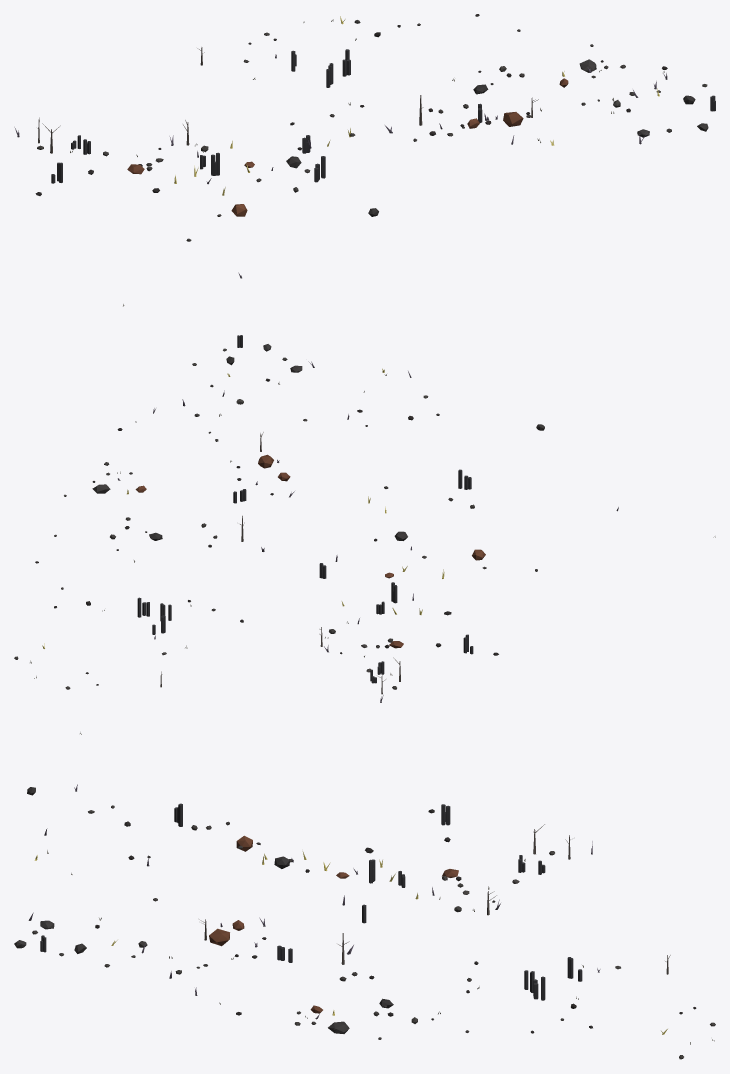
File: ash_land_scatter_c17_27_lod1.glb
The picture shows the model from 3 angles, top to bottom: view 1: azimuth 30°, elevation 25°; view 2: azimuth 150°, elevation 25°; view 3: azimuth 270°, elevation 25°; orthographic projection. The views are drawn at different scales.
Parts seen in each view (by area): view 1: ash_land_scatter_c17_27_lod1; view 2: ash_land_scatter_c17_27_lod1; view 3: ash_land_scatter_c17_27_lod1.
Boxes of the visible parts, bbox=[...] form: ash_land_scatter_c17_27_lod1: bbox=[14, 14, 715, 306]; ash_land_scatter_c17_27_lod1: bbox=[14, 335, 715, 702]; ash_land_scatter_c17_27_lod1: bbox=[14, 732, 715, 1059].
Size of the model in its own units: 165 by 39.39 by 156.
